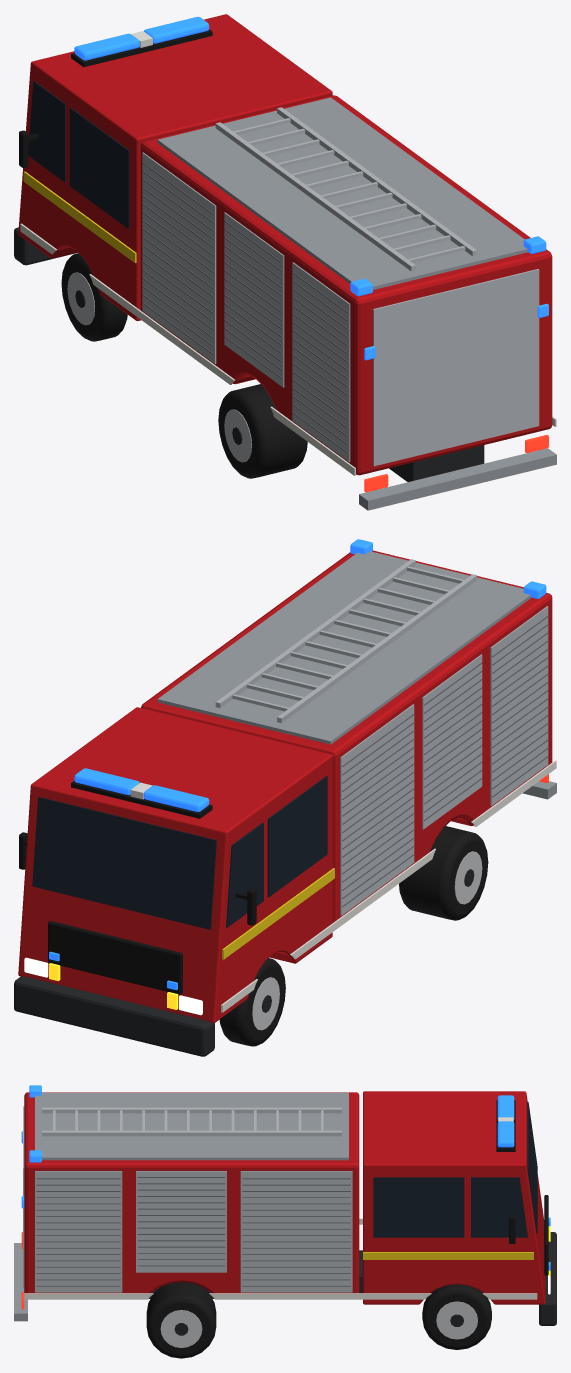
3 renders of one model, top to bottom at view 1: azimuth 30°, elevation 25°; view 2: azimuth 150°, elevation 25°; view 3: azimuth 270°, elevation 25°, orthographic. The views are drawn at different scales.
Parts seen in each view (by area): view 1: kabina, hodnik, rolete, zadaj_rolete, nadgradnja, lestev, utori, okno.002, guma1-1, zadaj_stopnica, okno, trak (+9 smaller); view 2: kabina, hodnik, rolete, vetrobran, nadgradnja, lestev, odbijac, utori, maska, okno.002, guma1-1, okno (+8 smaller); view 3: rolete, kabina, hodnik, nadgradnja, utori, okno.003, lestev, guma11, okno.001, trak, guma01, trak.001 (+8 smaller).
Part boxes in pixels (x1,y1,x2,y2): kabina: (18,14,332,320); hodnik: (157,97,528,289); rolete: (142,152,350,462); zadaj_rolete: (373,269,539,466); nadgradnja: (140,95,552,475); lestev: (215,107,477,271); utori: (142,162,348,453); okno.002: (69,107,129,228); guma1-1: (218,384,307,478); zadaj_stopnica: (359,448,556,510); okno: (28,81,65,182); trak: (20,223,556,475); kabina: (18,707,332,1023); hodnik: (157,551,531,744); rolete: (340,606,548,915); vetrobran: (32,797,216,929); nadgradnja: (141,550,552,922); lestev: (215,559,477,723); odbijac: (14,976,214,1056); utori: (342,616,547,907); maska: (48,921,182,994); okno.002: (267,776,327,897); guma1-1: (399,826,488,920); okno: (226,822,263,927); rolete: (35,1171,352,1292); kabina: (363,1091,545,1304); hodnik: (35,1092,348,1160); nadgradnja: (24,1092,359,1293); utori: (36,1177,350,1286); okno.003: (373,1177,464,1237); lestev: (42,1107,341,1136); guma11: (146,1282,216,1358); okno.001: (471,1177,527,1237); trak: (24,1218,537,1299); guma01: (422,1284,491,1349); trak.001: (363,1252,533,1259).
Bounding box in the file's own units: 2.98 × 3.15 × 7.78.
